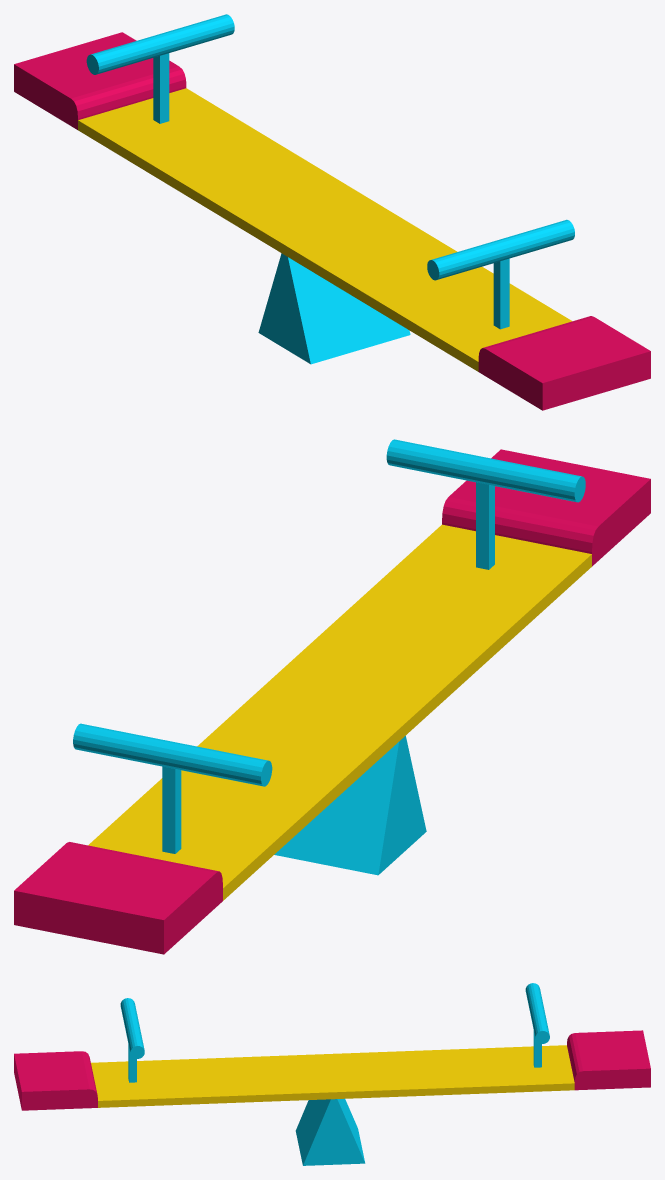
File: Seasaw.obj
3 views of the same model, one above another, from view 1: azimuth 30°, elevation 25°; view 2: azimuth 150°, elevation 25°; view 3: azimuth 270°, elevation 25° (orthographic). The views are drawn at different scales.
Parts seen in each view (by area): view 1: Box007, Box006, Cylinder003, Cylinder004, Box005, Box008; view 2: Box007, Box006, Cylinder004, Cylinder003, Box005, Box008; view 3: Box007, Box006, Cylinder004, Cylinder003.
Boxes of the visible parts, left/top/right/bottom form: Box007: left=14, top=32, right=650, bottom=410; Box006: left=258, top=253, right=410, bottom=364; Cylinder003: left=86, top=14, right=234, bottom=74; Cylinder004: left=427, top=219, right=574, bottom=280; Box005: left=153, top=53, right=169, bottom=123; Box008: left=493, top=258, right=509, bottom=329; Box007: left=14, top=449, right=650, bottom=954; Box006: left=274, top=735, right=426, bottom=875; Cylinder004: left=386, top=439, right=585, bottom=502; Cylinder003: left=73, top=723, right=272, bottom=786; Box005: left=162, top=766, right=181, bottom=853; Box008: left=476, top=482, right=494, bottom=569; Box007: left=14, top=1030, right=650, bottom=1110; Box006: left=295, top=1098, right=365, bottom=1165; Cylinder004: left=120, top=998, right=144, bottom=1058; Cylinder003: left=525, top=983, right=549, bottom=1043.
Bounding box in the file's own units: 154278 × 150681 × 655435.
